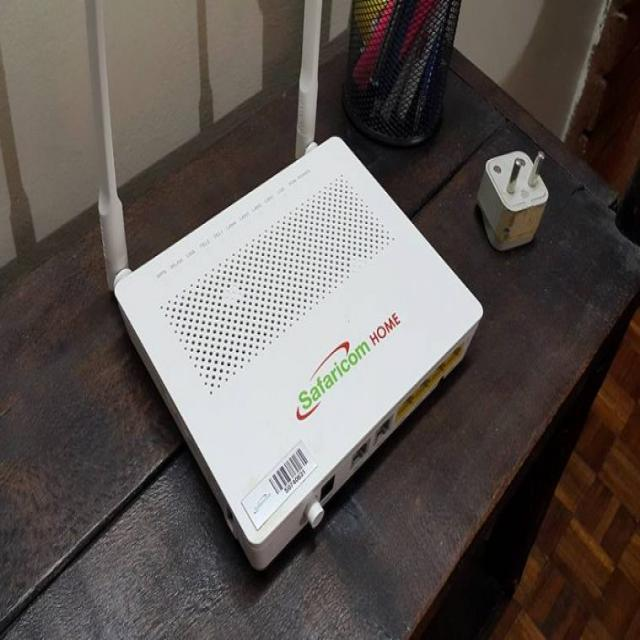Router: (82, 0, 486, 576)
